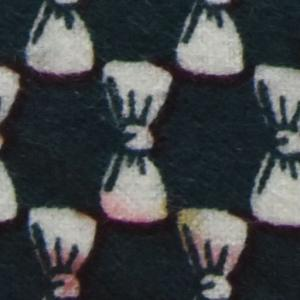Stain: (86, 188, 205, 232), (39, 245, 91, 300), (183, 236, 246, 274)
